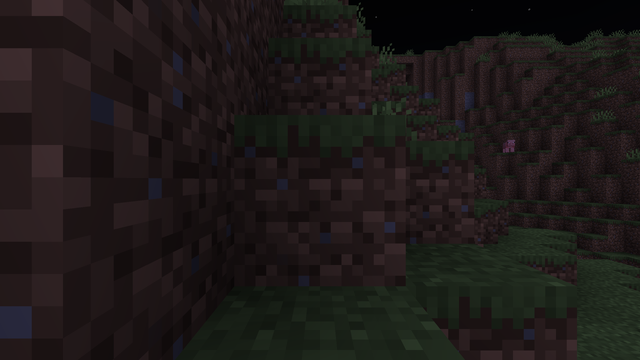cochons: (499, 141, 516, 152)
